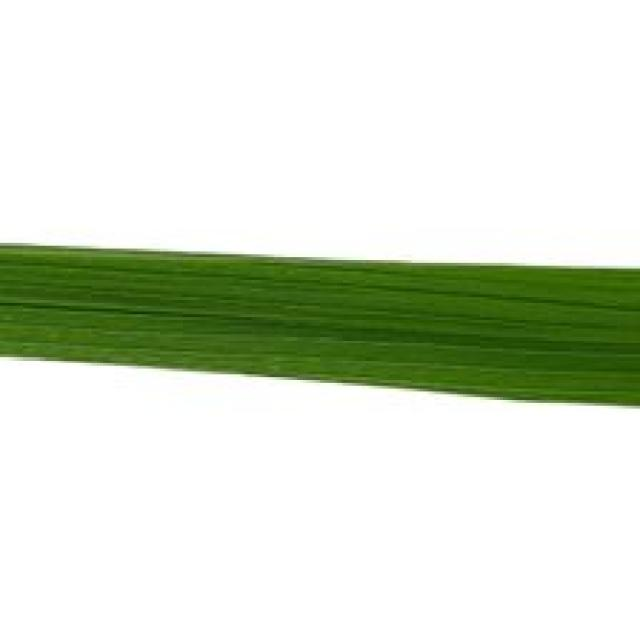Rice___Healthy_Rice_Plant: (0, 242, 637, 411)
